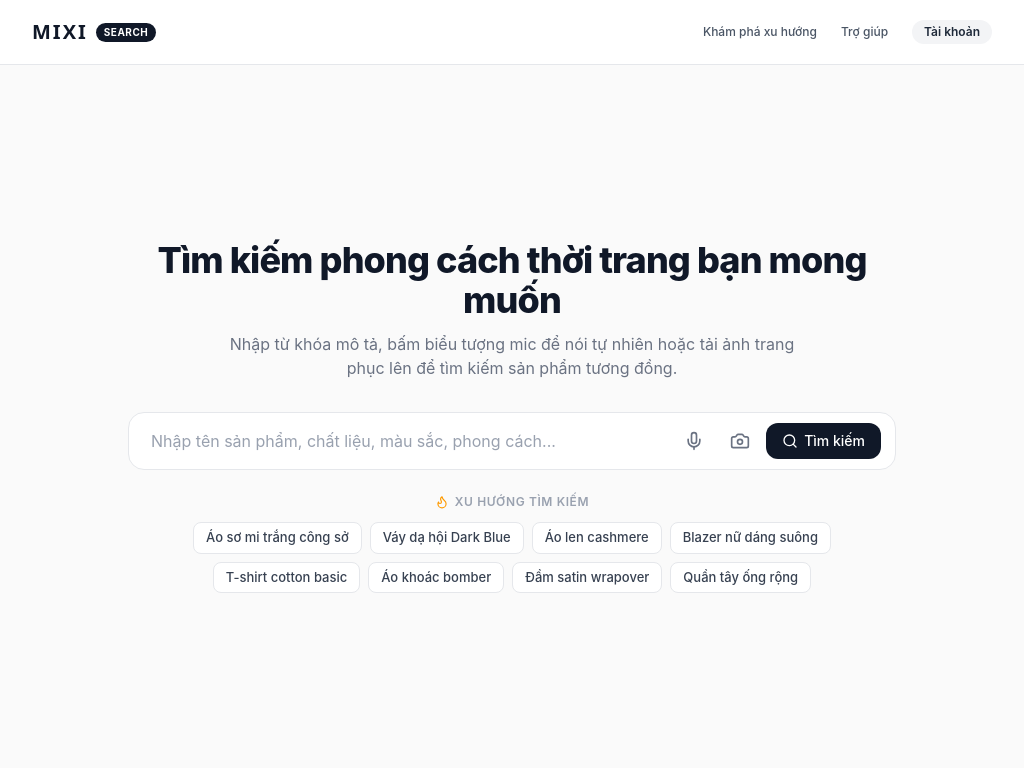
Test case: Home page independent search flow › shows an API error after the user submits a search
Type "áo khoác" into the field with placeholder "Nhập tên sản phẩm, chất liệu, màu sắc, phong cách..." at (409, 441), box top-left (143, 423), bottom-right (674, 459)
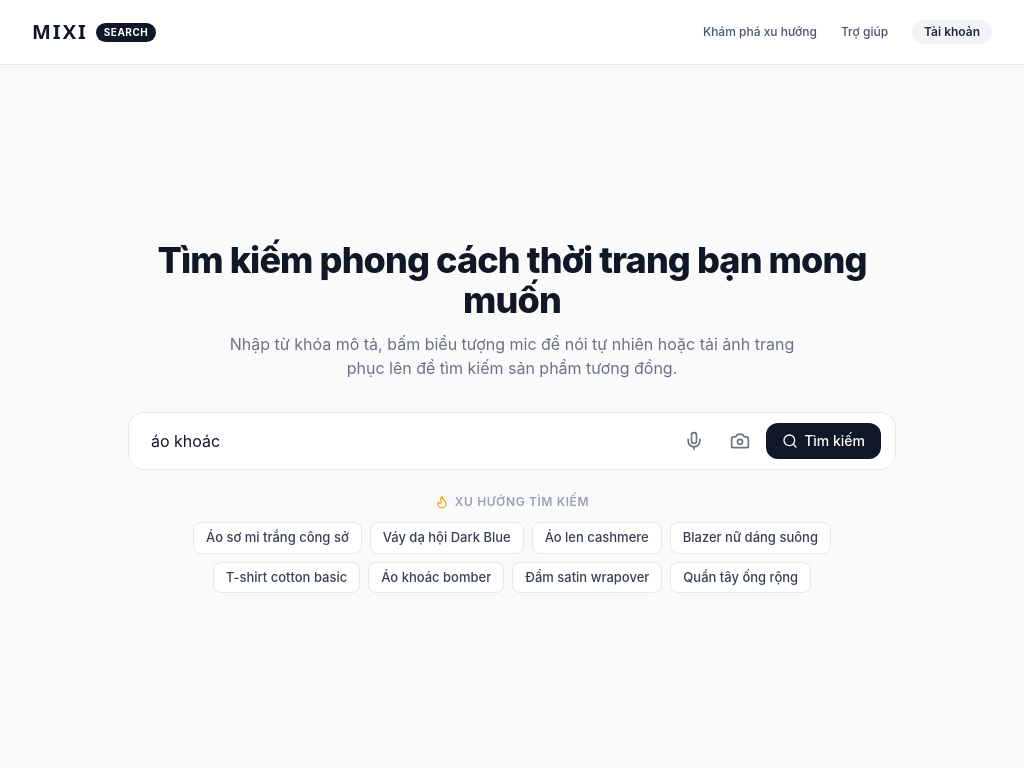
Click the button "Tìm kiếm" at (824, 441), box top-left (766, 423), bottom-right (881, 459)
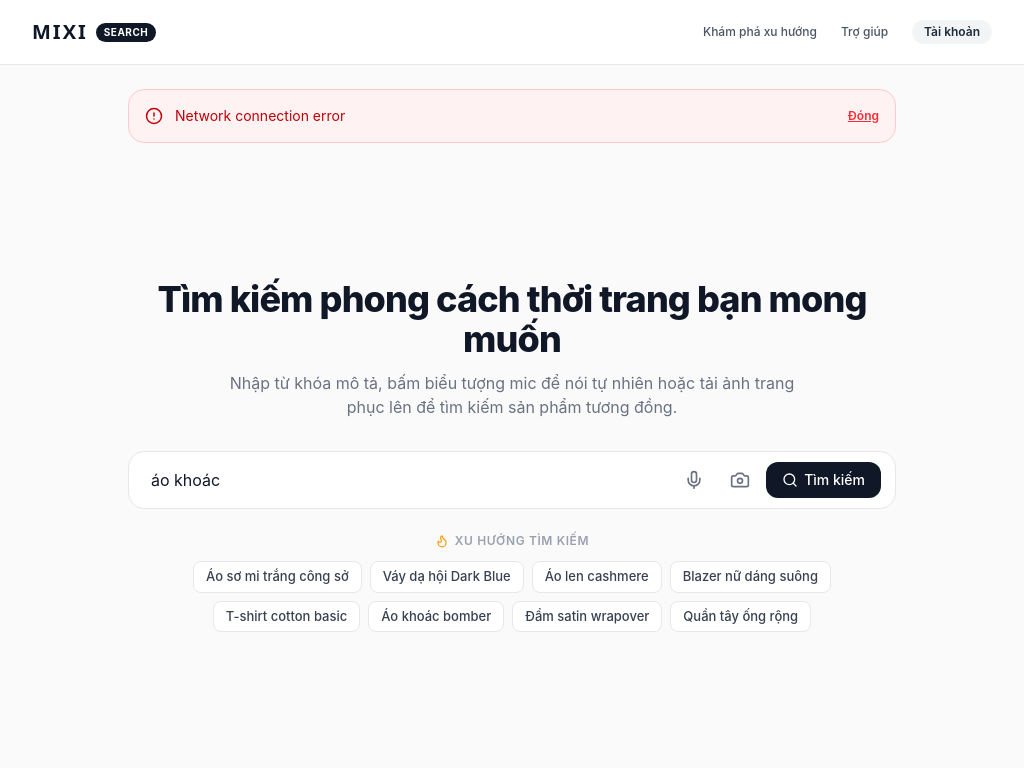
expect the text "Network connection error" is shown: met, box top-left (175, 107), bottom-right (345, 124)
